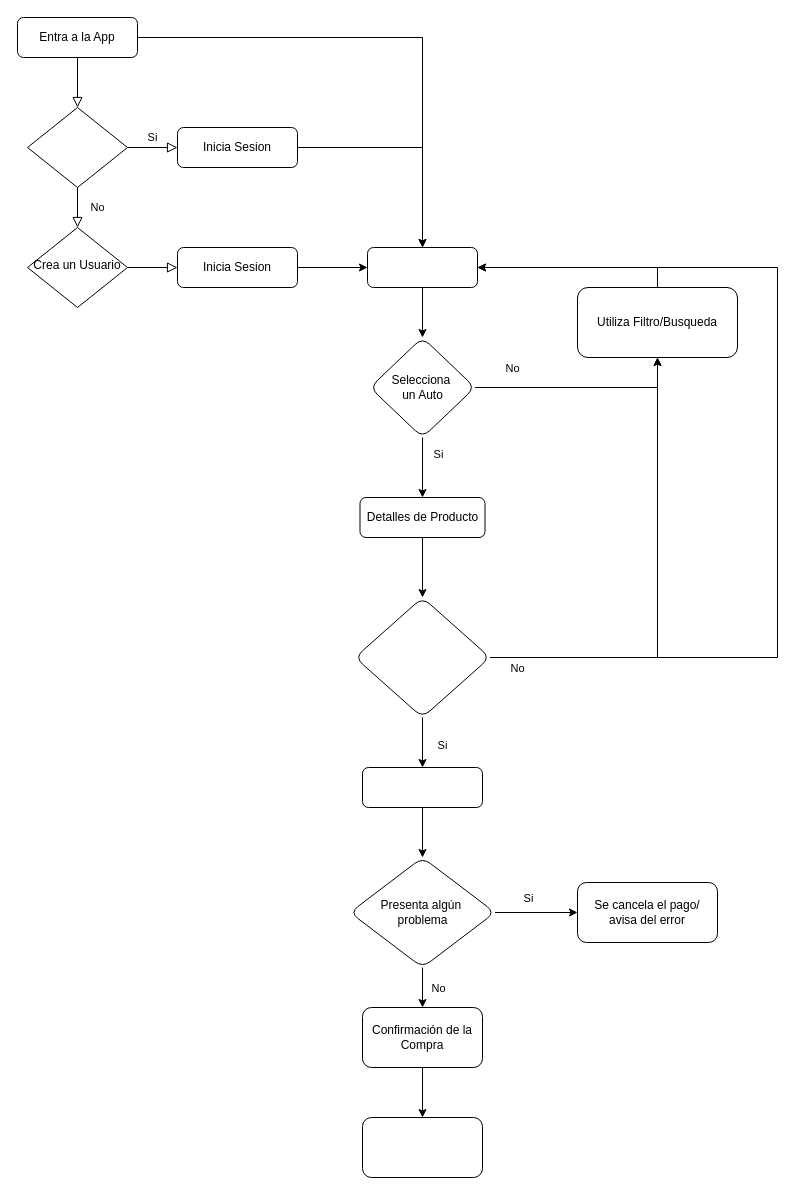
The diagram is 803 pixels wide and 1195 high, and some of its shapes have lost their labels. The shapes that lost their labels are listed below. From the top down, each one's centre as x and y in pixels, then its label:
the point at 77,147: Tiene Usuario
the point at 422,267: Catalogo
the point at 422,657: Añade al Carrito de Compras
the point at 422,787: Proceso de pago
the point at 422,1147: Fin de la App
